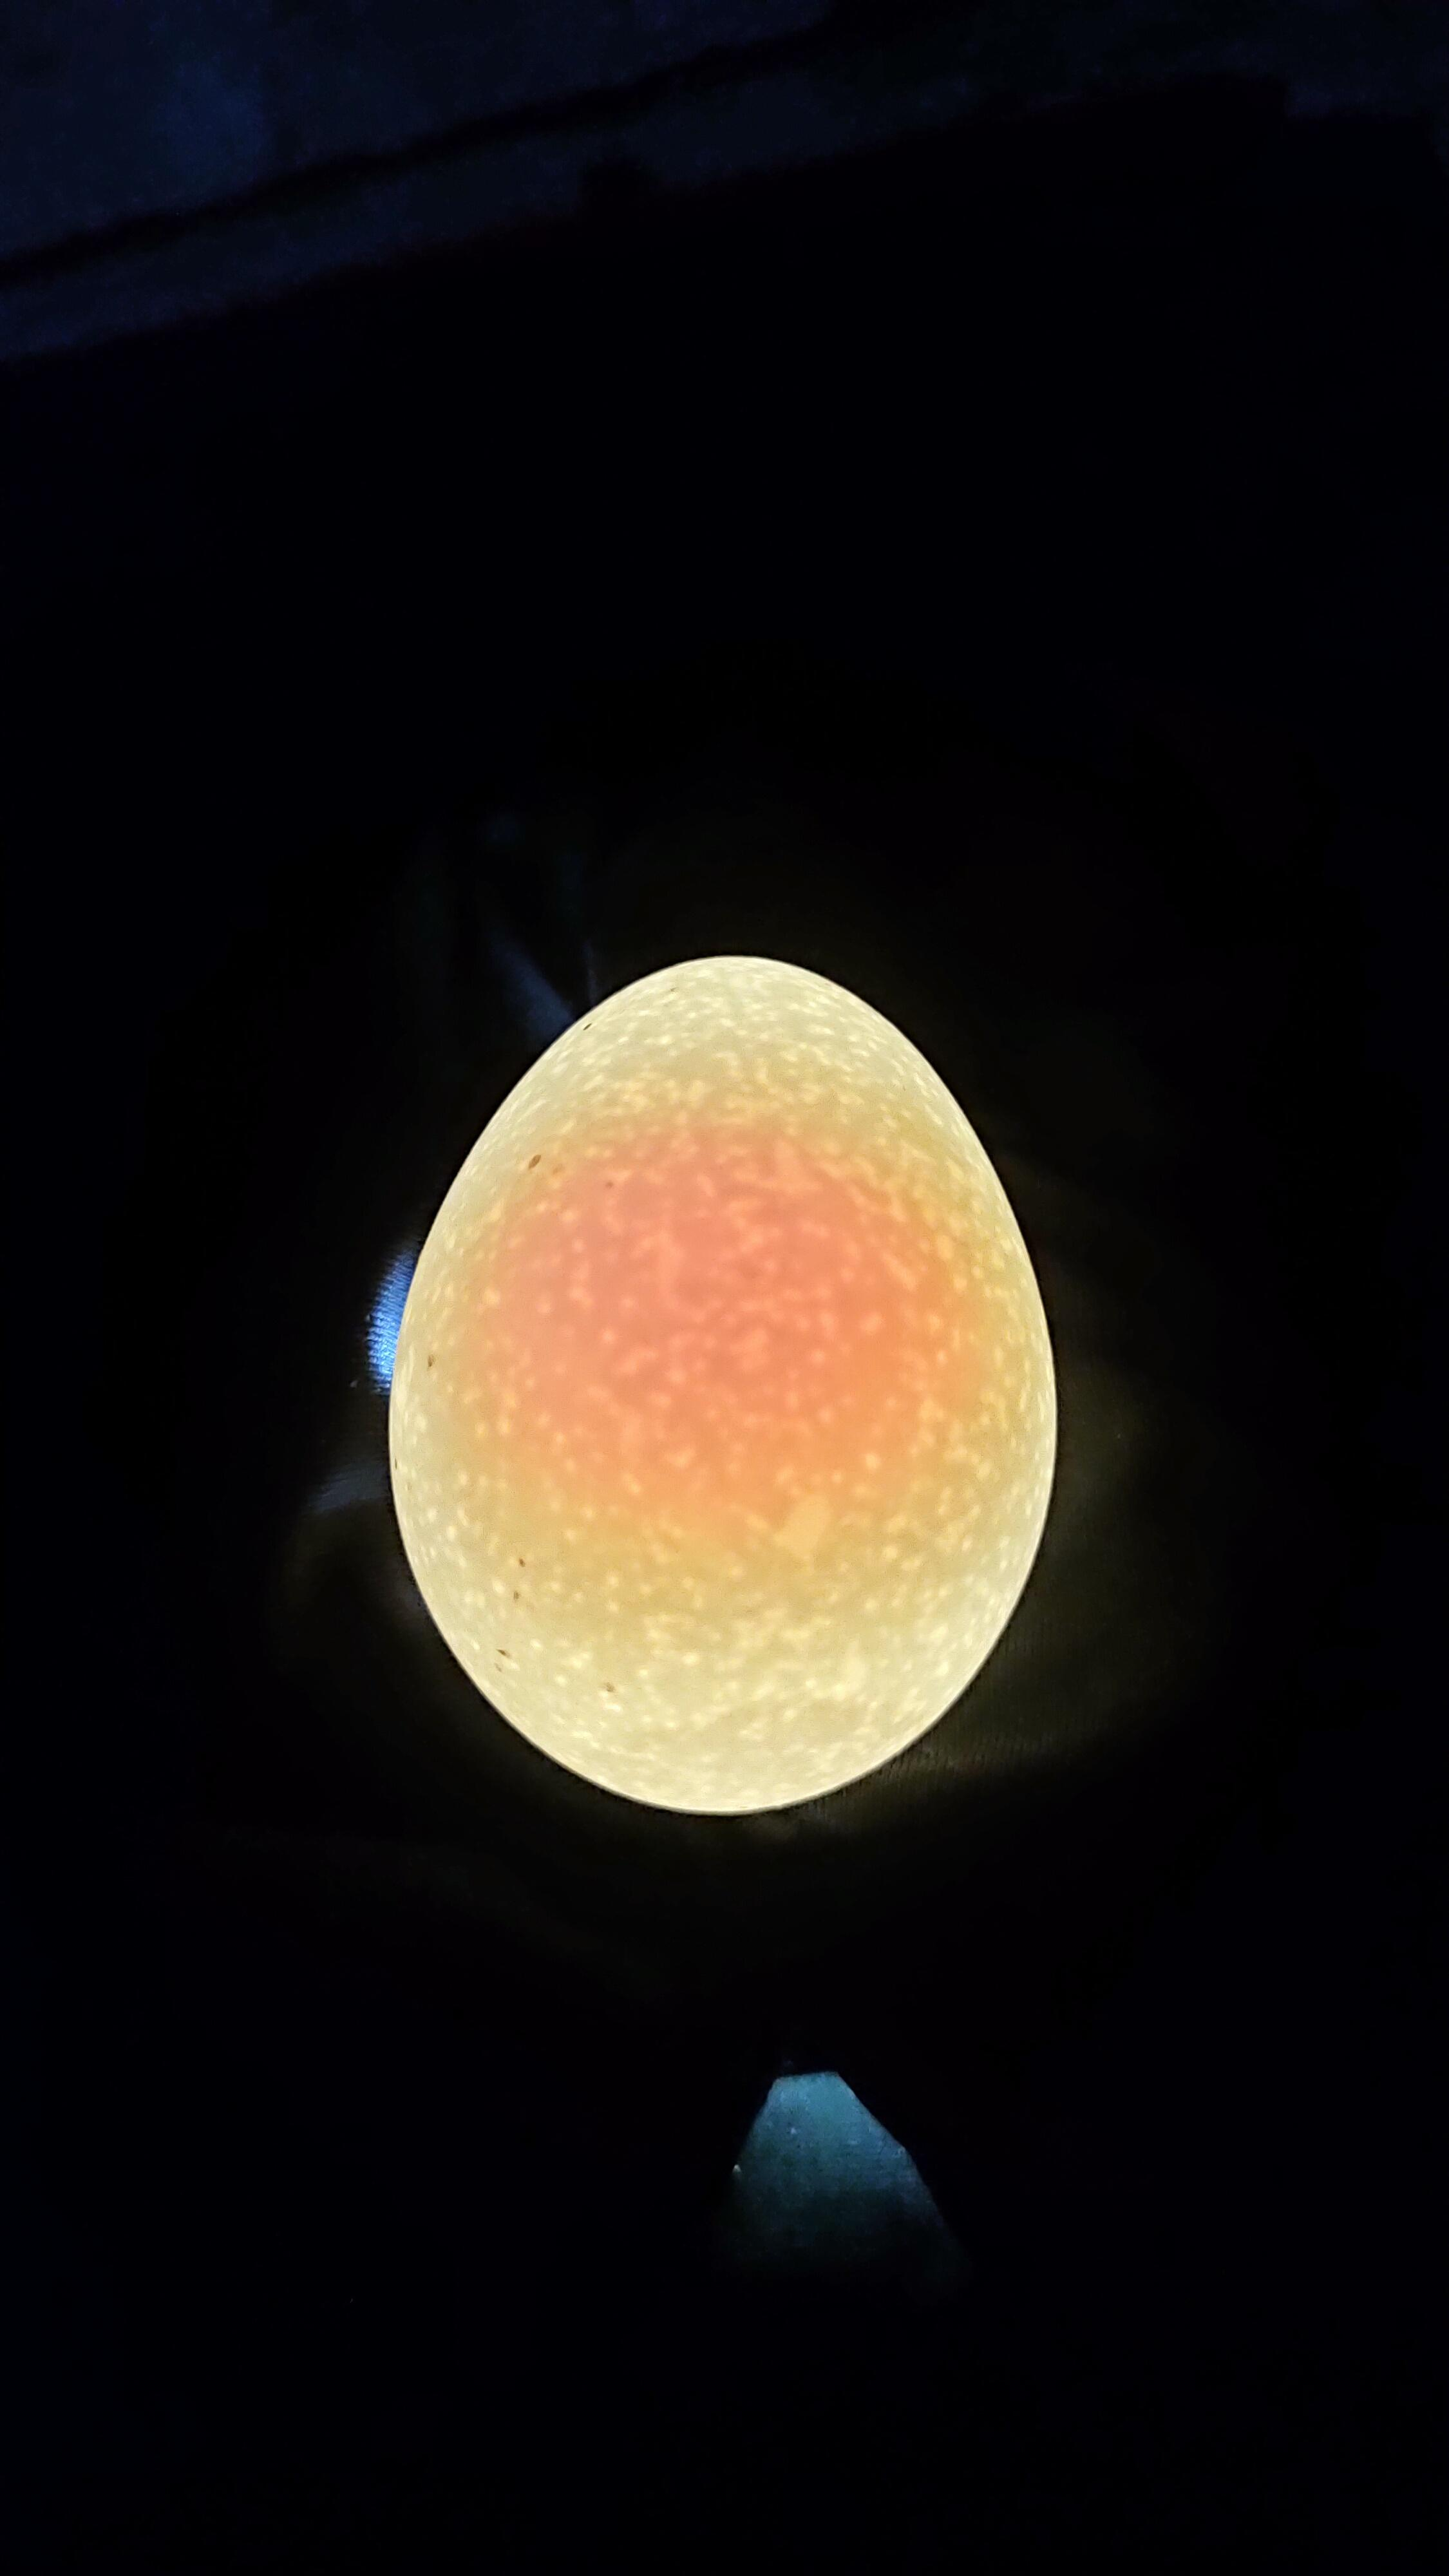Inedible: (334, 922, 1088, 1854)
